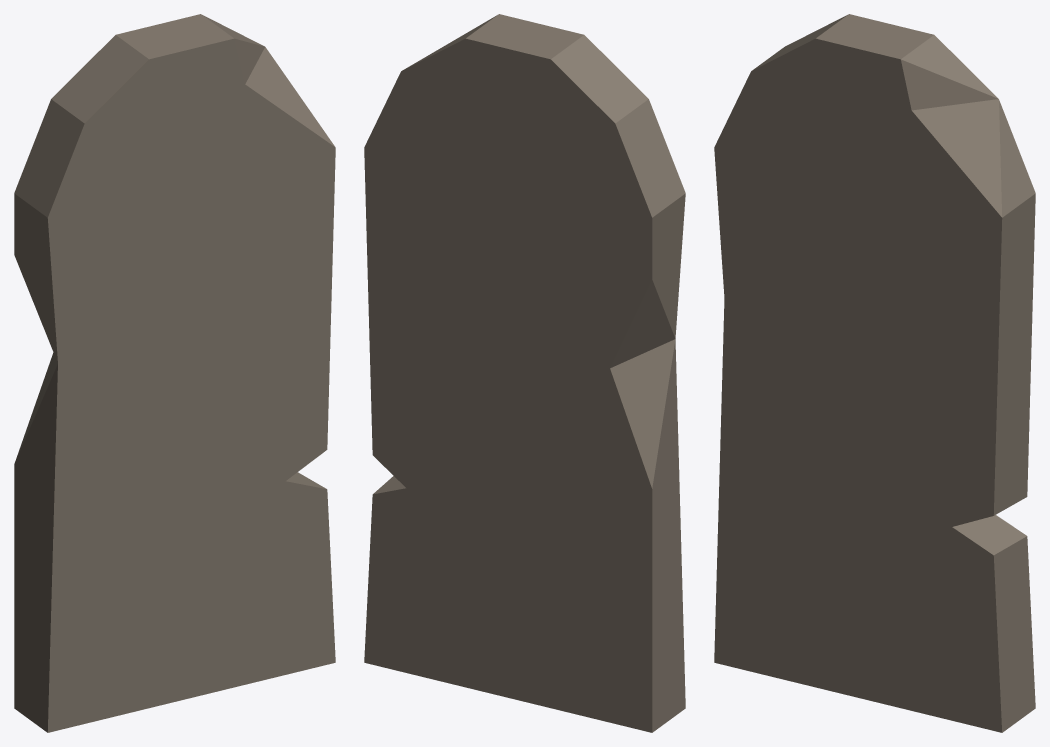
The model's file is SM_Prop_Grave_02.fbx.
3 renders of one model, left to right at view 1: azimuth 30°, elevation 25°; view 2: azimuth 150°, elevation 25°; view 3: azimuth 330°, elevation 25°, orthographic.
Visible parts, largest first — view 1: SM_Prop_Grave_02; view 2: SM_Prop_Grave_02; view 3: SM_Prop_Grave_02.
Part boxes in pixels (x1=…): SM_Prop_Grave_02: x1=14, y1=14, x2=335, y2=732; SM_Prop_Grave_02: x1=364, y1=14, x2=685, y2=732; SM_Prop_Grave_02: x1=714, y1=14, x2=1035, y2=732.
Bounding box in the file's own units: 0.5471 × 1.18 × 0.1105.
